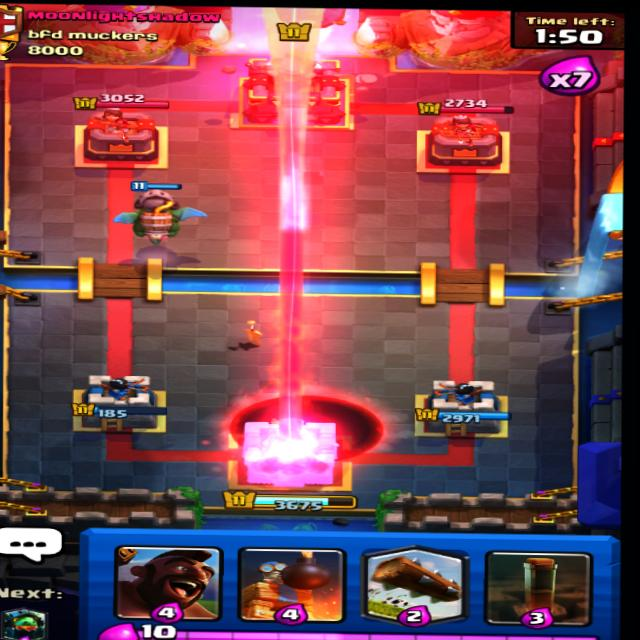void: (228, 395, 388, 465)
